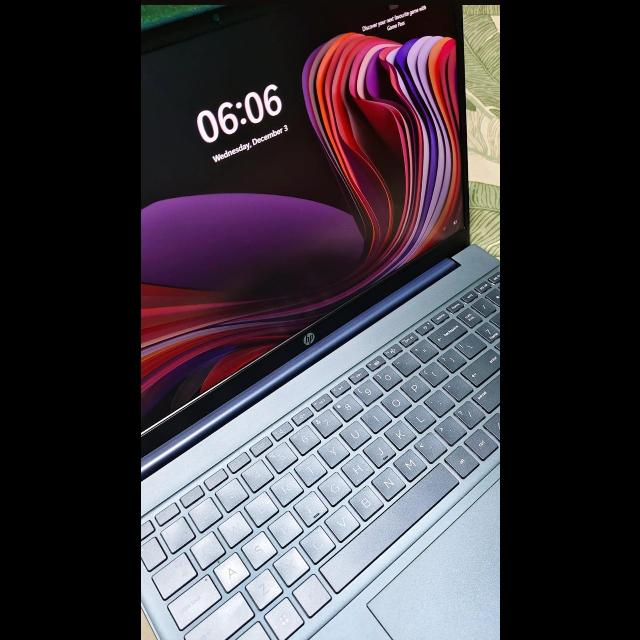laptop: (148, 8, 500, 640)
